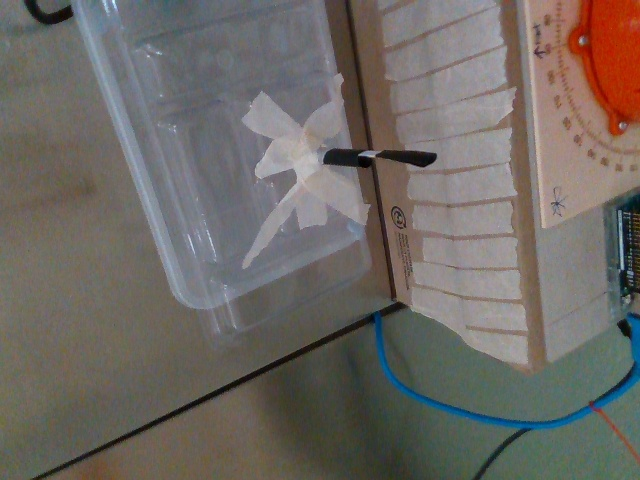test_strip: (358, 150, 439, 171)
